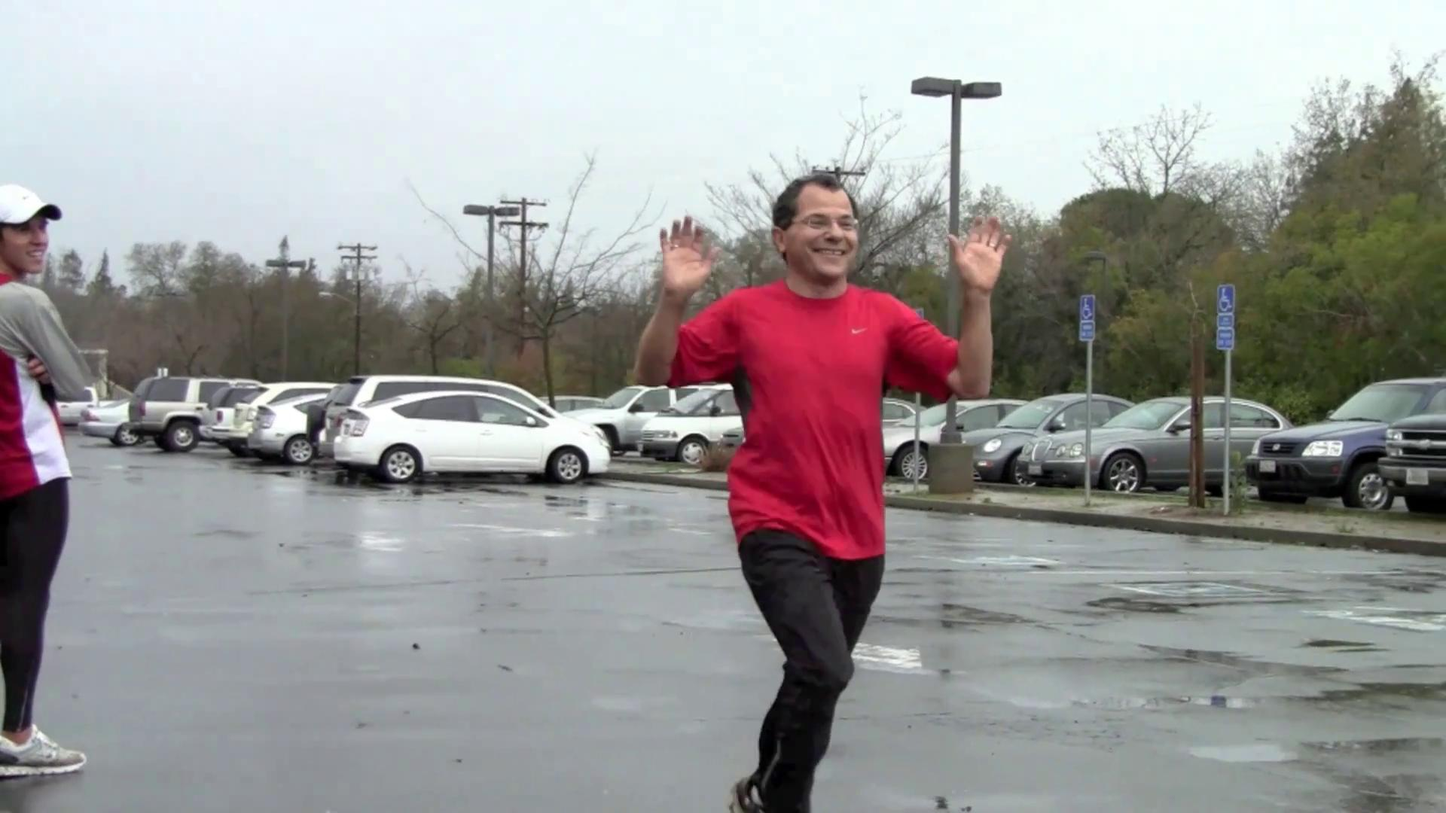victim: (627, 163, 1021, 812)
